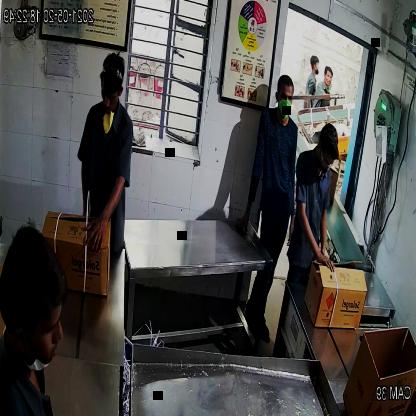no_goggles: (100, 83, 123, 104)
